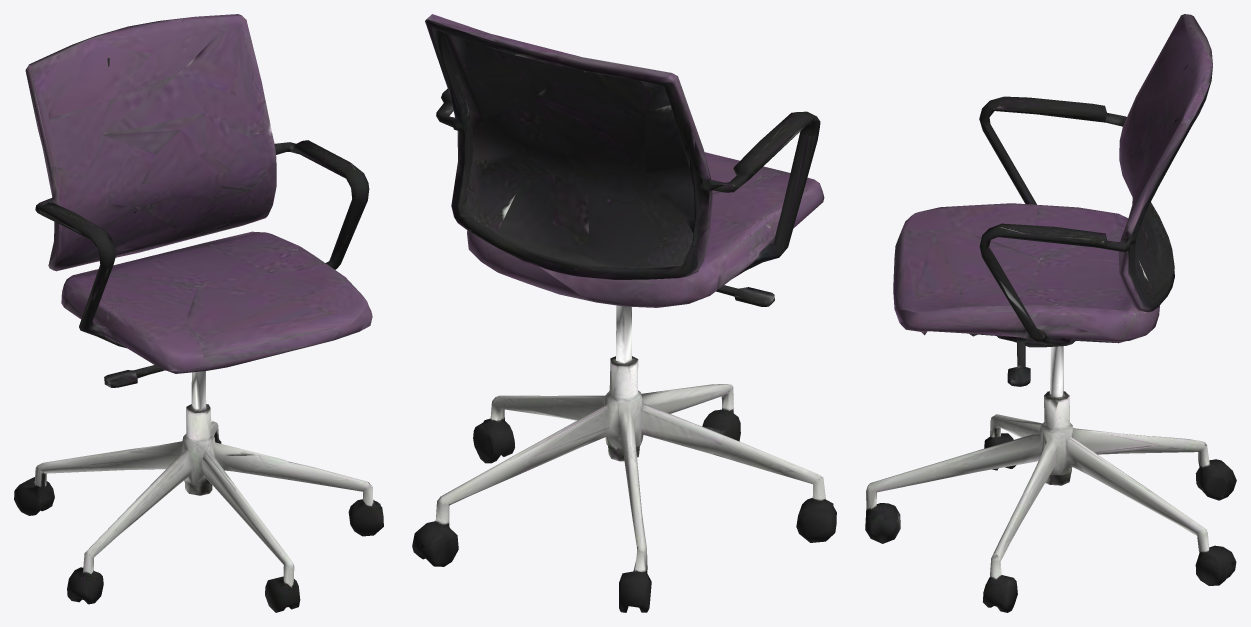
The model's file is chair-mobile.glb.
3 views of the same model, side by side, from view 1: azimuth 30°, elevation 25°; view 2: azimuth 150°, elevation 25°; view 3: azimuth 270°, elevation 25° (orthographic). The views are drawn at different scales.
Parts seen in each view (by area): view 1: CODED_chair; view 2: CODED_chair; view 3: CODED_chair.
Part boxes in pixels (<box>): CODED_chair: <box>14,14,383,612</box>; CODED_chair: <box>412,14,836,612</box>; CODED_chair: <box>865,14,1236,612</box>.
Bounding box in the file's own units: 0.7105 × 0.9999 × 0.7052.
Materials: 1 (1 with a texture image).
